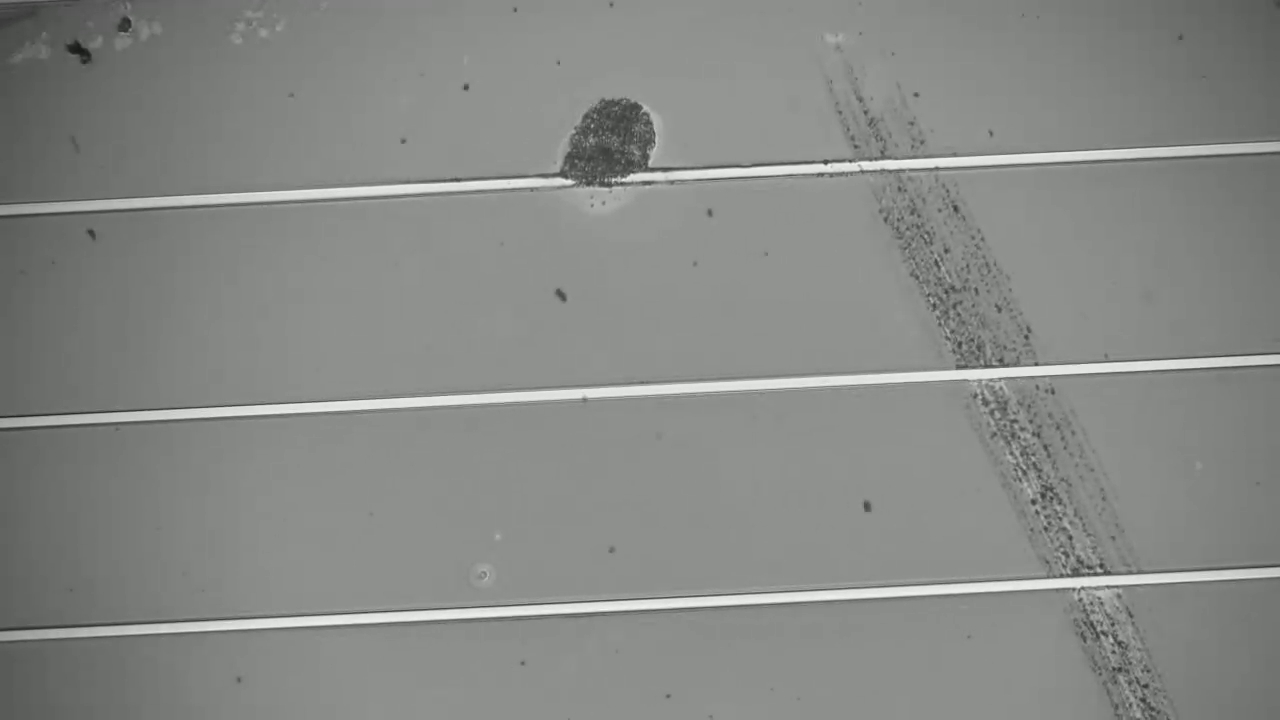scratch: (812, 32, 1184, 712)
stains_enbedded: (537, 73, 675, 228)
